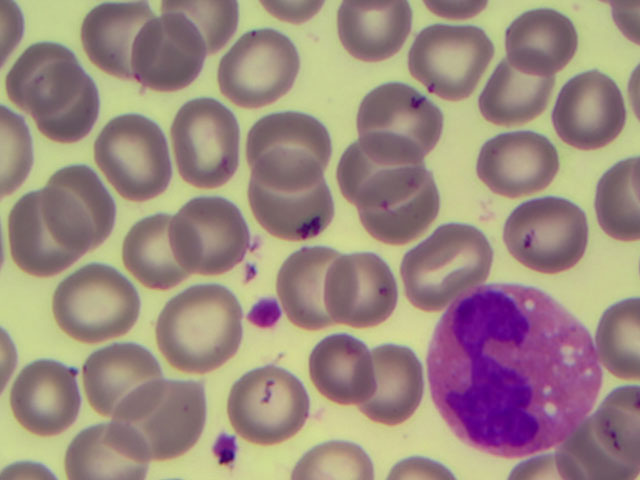Platelets: (248, 297, 283, 329), (215, 432, 239, 466)
RBC: (112, 383, 206, 456), (506, 195, 590, 275), (8, 198, 94, 276), (250, 153, 329, 237), (120, 217, 201, 296), (247, 113, 328, 192), (55, 269, 138, 344), (158, 289, 239, 365), (361, 86, 437, 166), (82, 1, 155, 82), (171, 101, 237, 189), (221, 32, 298, 107), (228, 368, 313, 435), (99, 115, 171, 194), (80, 348, 160, 418), (44, 166, 106, 256), (284, 247, 352, 328), (342, 139, 423, 207), (171, 202, 247, 274), (328, 250, 397, 329), (416, 21, 485, 97), (352, 347, 420, 424), (12, 363, 82, 435), (556, 72, 622, 148), (31, 71, 99, 143), (134, 16, 202, 88), (363, 174, 432, 243), (306, 335, 374, 404), (480, 132, 558, 192), (411, 223, 483, 288), (338, 1, 411, 64), (63, 427, 148, 480), (505, 12, 576, 75), (14, 48, 79, 115), (590, 158, 640, 241), (571, 420, 640, 480), (490, 53, 547, 124), (163, 1, 230, 57), (601, 389, 640, 469), (598, 302, 640, 375), (292, 445, 375, 480), (1, 101, 29, 195), (509, 454, 586, 480), (386, 453, 452, 480), (3, 456, 60, 480), (1, 1, 22, 63), (2, 326, 20, 394), (259, 1, 314, 22)
WBC: (438, 290, 589, 449)
